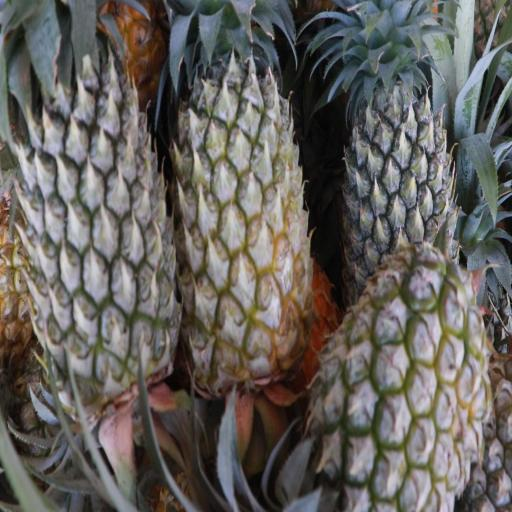------------------------------: (173, 22, 308, 390), (316, 260, 488, 512)
